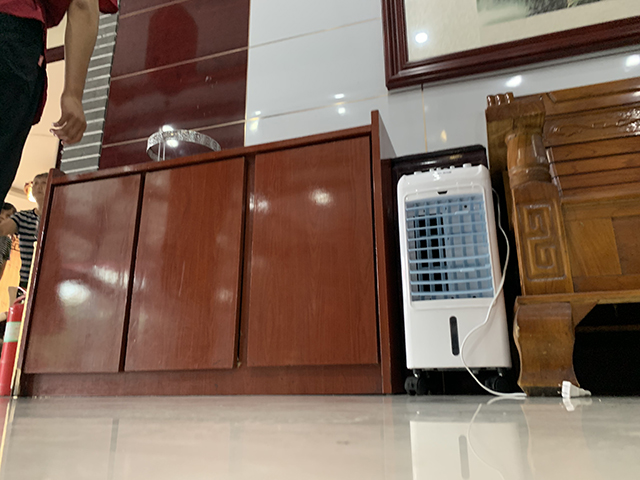cabinet: (9, 109, 398, 400)
sofa: (483, 74, 640, 396)
wire: (458, 362, 595, 398)
